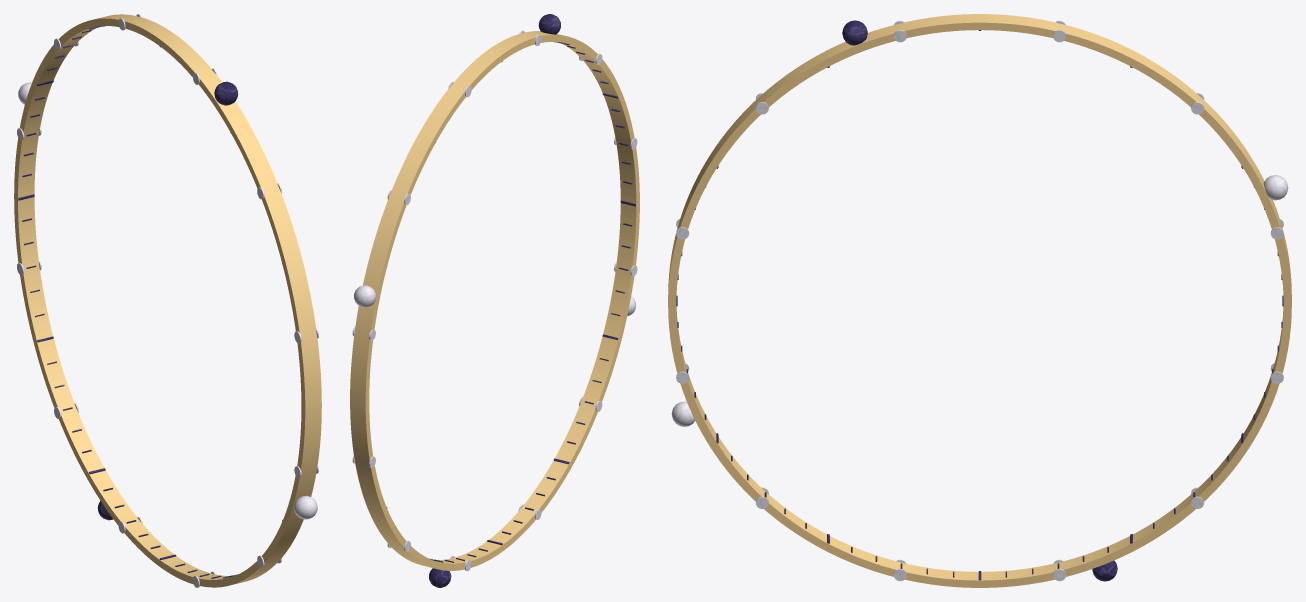
File: HubRing_D.gltf
3 renders of one model, left to right at view 1: azimuth 30°, elevation 25°; view 2: azimuth 150°, elevation 25°; view 3: azimuth 270°, elevation 25°, orthographic. The views are drawn at different scales.
Parts seen in each view (by area): view 1: HubRing_D; view 2: HubRing_D; view 3: HubRing_D.
Boxes of the visible parts, <box> form: HubRing_D: <box>14,14,321,587</box>; HubRing_D: <box>350,14,639,587</box>; HubRing_D: <box>668,14,1291,587</box>.
Bounding box in the file's own units: 1 × 24.32 × 24.32.
Materials: 3 (2 with a texture image).
